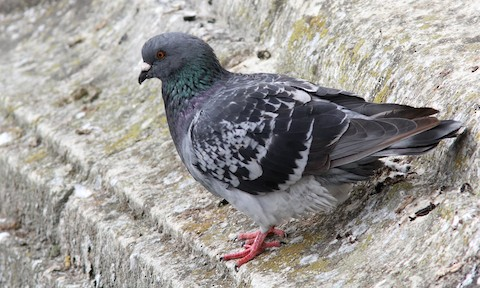pigeon: (133, 29, 474, 272)
